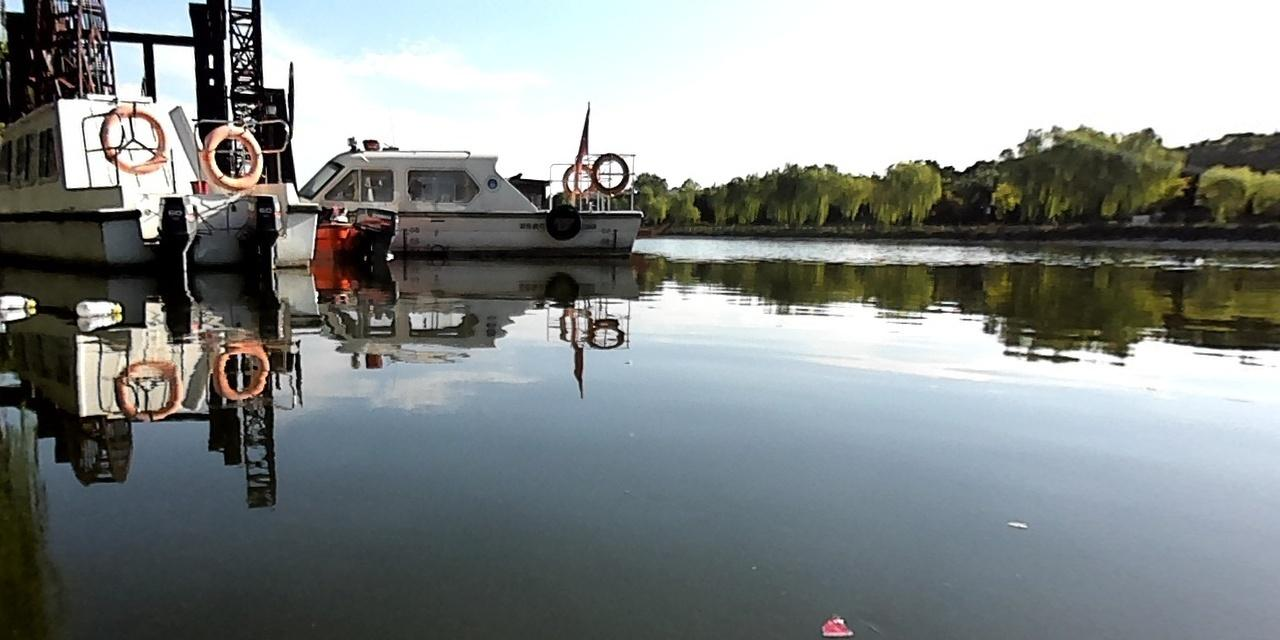bottle: (76, 300, 121, 314), (0, 295, 34, 310)
